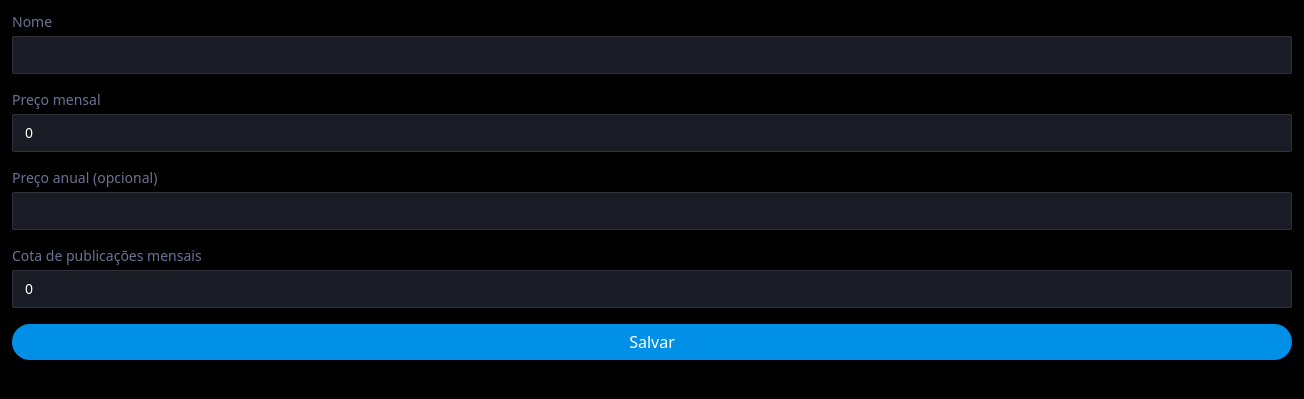
Scenario: PlanForm › GIVEN required fields left empty WHEN submitted THEN it blocks submit and shows pt-BR field errors
Clear the field labelled "Nome" at point(652, 55), box [12, 36, 1292, 74]
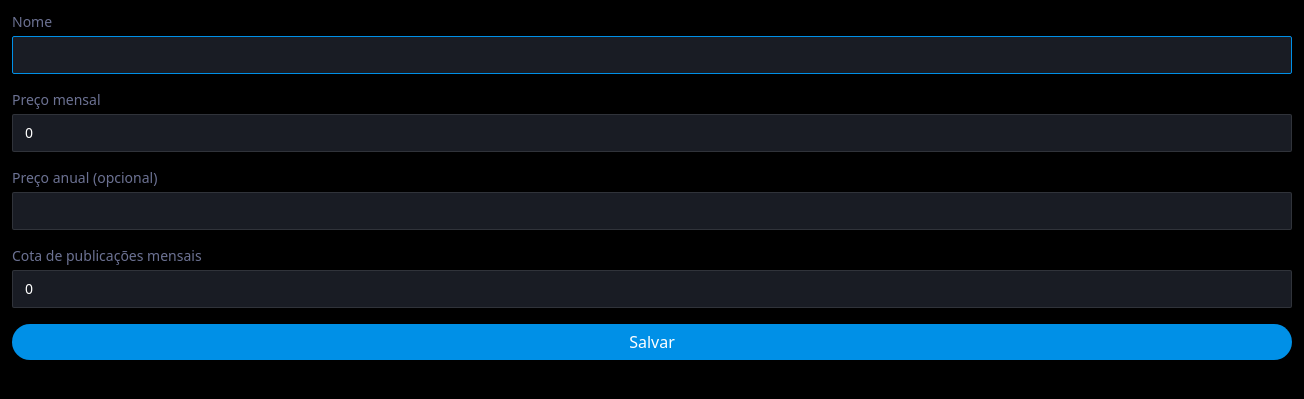
Click the button "Salvar" at point(652, 342), box [12, 324, 1292, 360]
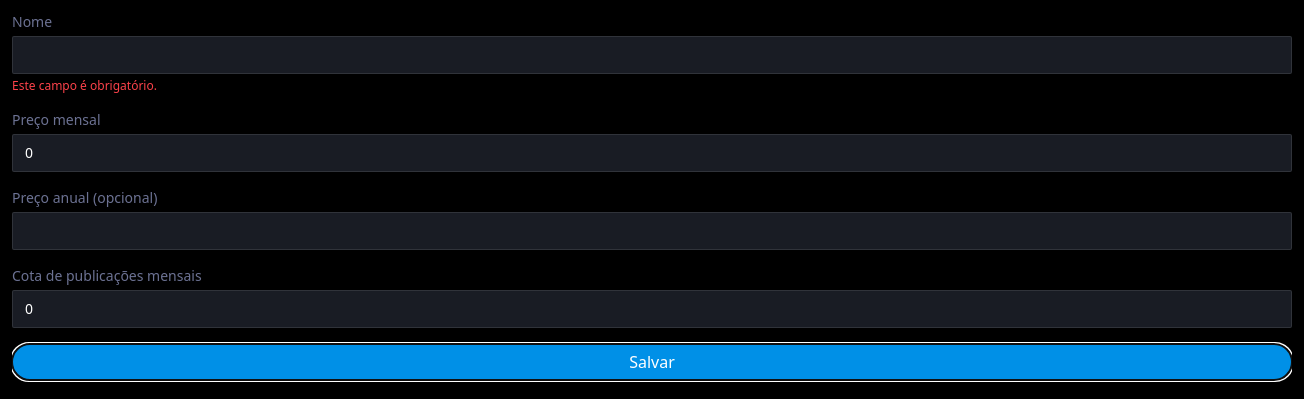
Expected: the element labelled "Nome" shows "Este campo é obrigatório.", [12, 77, 157, 94]
